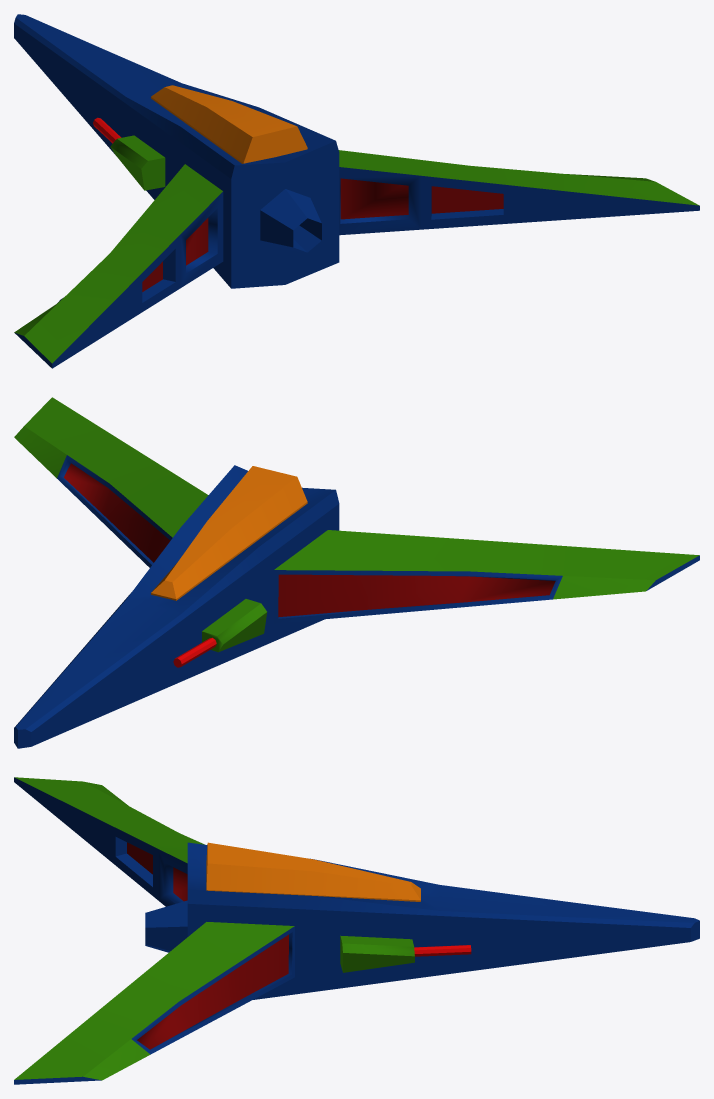
File: ship.fbx
3 views of the same model, one above another, from view 1: azimuth 30°, elevation 25°; view 2: azimuth 150°, elevation 25°; view 3: azimuth 270°, elevation 25° (orthographic). The views are drawn at different scales.
Visible parts, largest first — view 1: Player_Ship; view 2: Player_Ship; view 3: Player_Ship.
Part boxes in pixels (left/top/right/bottom): Player_Ship: left=14, top=14, right=699, bottom=368; Player_Ship: left=14, top=397, right=699, bottom=748; Player_Ship: left=14, top=777, right=699, bottom=1084.
Size of the model in its own units: 11.99 by 2.57 by 11.48.
